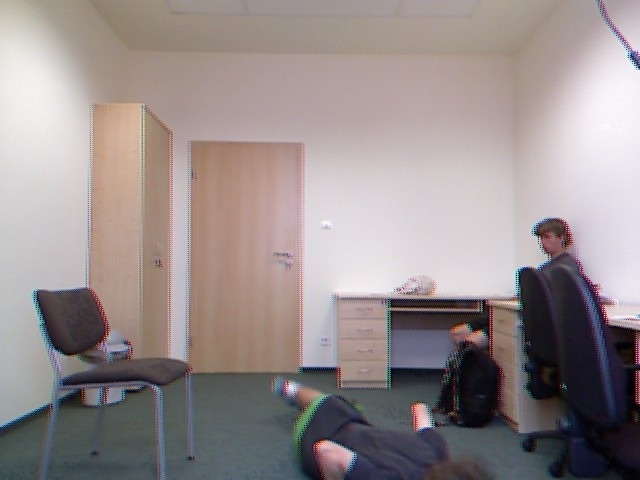fall: (266, 369, 505, 480)
not_fallen: (514, 202, 605, 297)
